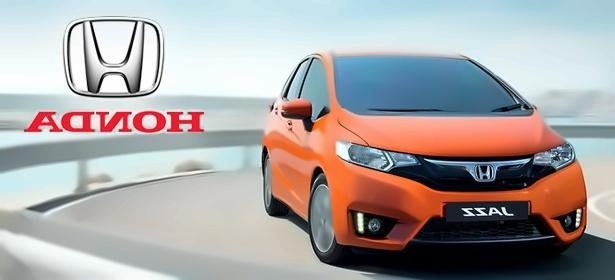Car hood: (337, 114, 567, 159)
Driver-s door - -F-R-: (284, 46, 335, 239)
Fender - -F-R-: (300, 155, 345, 192)
Fender - -R-R-: (254, 132, 283, 161)
Front bumper: (330, 176, 586, 249)
Headlight - -L-: (531, 139, 576, 174)
Headlight - -R-: (335, 138, 425, 174)
Side bumper - -R-: (270, 177, 309, 232)
Side mirror - -R-: (281, 98, 312, 125)
